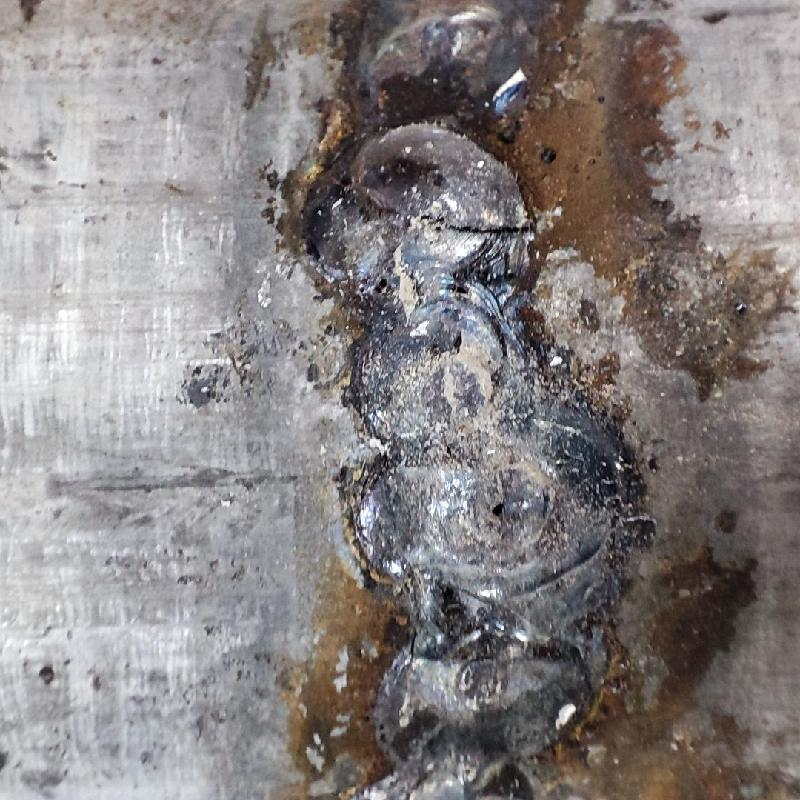Not_fully_soldered: (329, 2, 596, 757)
Surface_pores: (461, 482, 535, 535)
